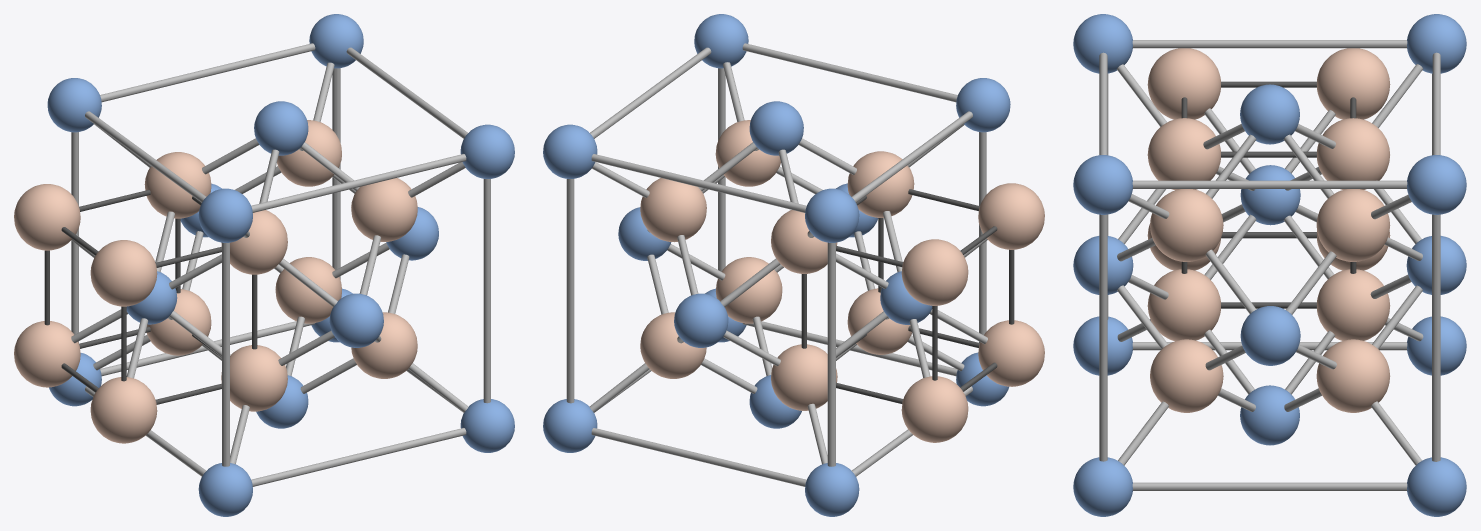
File: index.gltf
3 renders of one model, left to right at view 1: azimuth 30°, elevation 25°; view 2: azimuth 150°, elevation 25°; view 3: azimuth 270°, elevation 25°, orthographic. The views are drawn at different scales.
Parts seen in each view (by area): view 1: node_lan019_-42256, node_lan021_-42260, node_lan018_-42254, node_lan020_-42258, node_lan011_-42244, node_lan014_-42250, node_lan012_-42246, node_lan017_-42252, node_lan013_-42248, node_lan009_-42242, node_lan01_-42240, node_lan023_-42262 (+27 smaller); view 2: node_lan018_-42254, node_lan020_-42258, node_lan019_-42256, node_lan021_-42260, node_lan01_-42240, node_lan023_-42262, node_lan013_-42248, node_lan009_-42242, node_lan012_-42246, node_lan017_-42252, node_lan011_-42244, node_lv022_-42280 (+26 smaller); view 3: node_lan013_-42248, node_lan012_-42246, node_lan01_-42240, node_lan011_-42244, node_lan018_-42254, node_lan019_-42256, node_lan023_-42262, node_lan014_-42250, node_lan009_-42242, node_lan017_-42252, node_lv026_-42288, node_lv03_-42264 (+43 smaller).
Boxes of the visible parts, left/top/right/bottom form: node_lan019_-42256: left=90, top=240, right=157, bottom=306; node_lan021_-42260: left=90, top=377, right=157, bottom=443; node_lan018_-42254: left=14, top=184, right=80, bottom=250; node_lan020_-42258: left=14, top=321, right=80, bottom=387; node_lan011_-42244: left=351, top=178, right=417, bottom=241; node_lan014_-42250: left=221, top=345, right=287, bottom=411; node_lan012_-42246: left=275, top=257, right=341, bottom=323; node_lan017_-42252: left=144, top=152, right=211, bottom=218; node_lan013_-42248: left=351, top=312, right=417, bottom=378; node_lan009_-42242: left=221, top=210, right=287, bottom=274; node_lan01_-42240: left=277, top=120, right=341, bottom=186; node_lan023_-42262: left=147, top=289, right=211, bottom=355; node_lan018_-42254: left=901, top=239, right=968, bottom=305; node_lan020_-42258: left=901, top=376, right=968, bottom=442; node_lan019_-42256: left=978, top=183, right=1044, bottom=249; node_lan021_-42260: left=978, top=320, right=1044, bottom=386; node_lan01_-42240: left=640, top=178, right=706, bottom=242; node_lan023_-42262: left=771, top=344, right=837, bottom=410; node_lan013_-42248: left=715, top=257, right=782, bottom=323; node_lan009_-42242: left=847, top=151, right=914, bottom=217; node_lan012_-42246: left=640, top=312, right=706, bottom=378; node_lan017_-42252: left=771, top=210, right=837, bottom=273; node_lan011_-42244: left=715, top=120, right=780, bottom=186; node_lv022_-42280: left=674, top=293, right=728, bottom=347; node_lan013_-42248: left=1150, top=339, right=1223, bottom=412; node_lan012_-42246: left=1316, top=339, right=1390, bottom=412; node_lan01_-42240: left=1316, top=189, right=1390, bottom=261; node_lan011_-42244: left=1150, top=189, right=1223, bottom=261; node_lan018_-42254: left=1317, top=48, right=1390, bottom=119; node_lan019_-42256: left=1147, top=48, right=1220, bottom=119; node_lan023_-42262: left=1317, top=269, right=1390, bottom=340; node_lan014_-42250: left=1147, top=269, right=1220, bottom=341; node_lan009_-42242: left=1147, top=118, right=1220, bottom=190; node_lan017_-42252: left=1317, top=118, right=1389, bottom=189; node_lv026_-42288: left=1240, top=306, right=1300, bottom=365; node_lv03_-42264: left=1407, top=155, right=1466, bottom=214.
Bounding box in the file's own units: 1.16 × 0.9442 × 0.9445.
